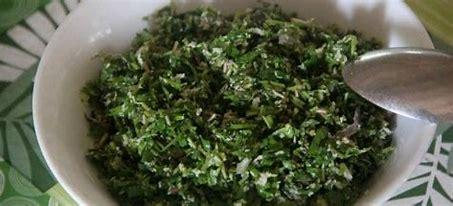Gotukola Mallum: (82, 9, 407, 193)
